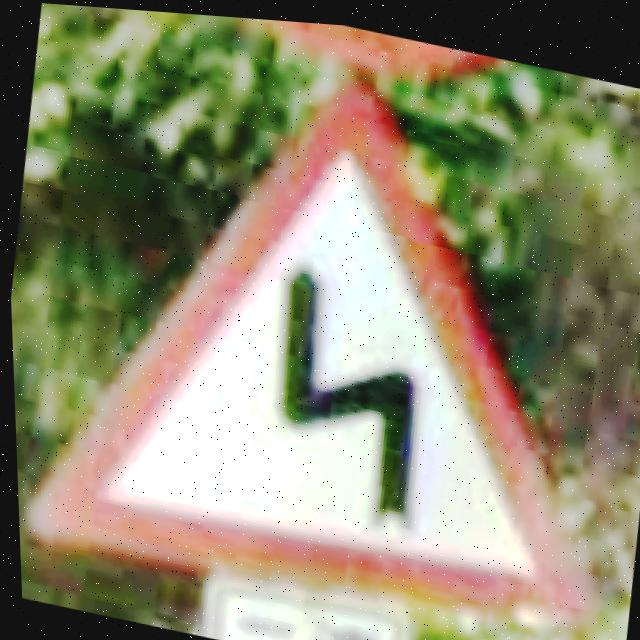doublebendleft: (25, 83, 577, 604)
